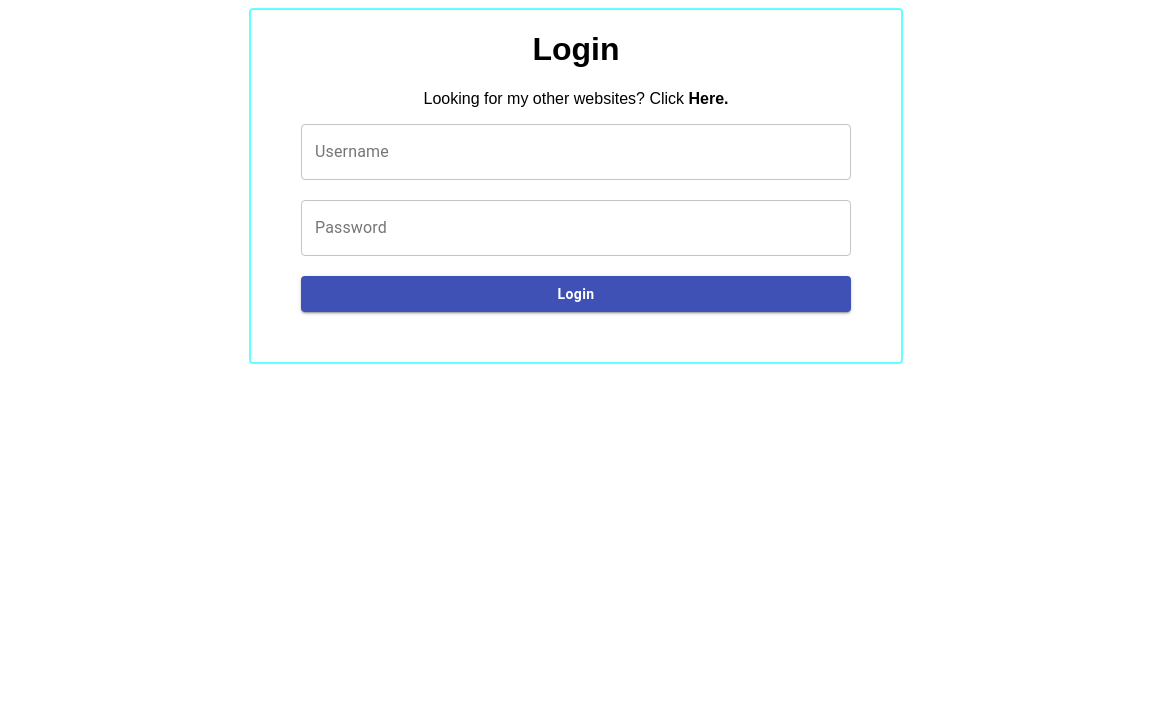
Test: logged-in-with-swimmer-role › lets you log out
The image size is (1152, 720).
Type "Swimmer" into the field labelled "Username" at (576,152), box [301,124,851,180]
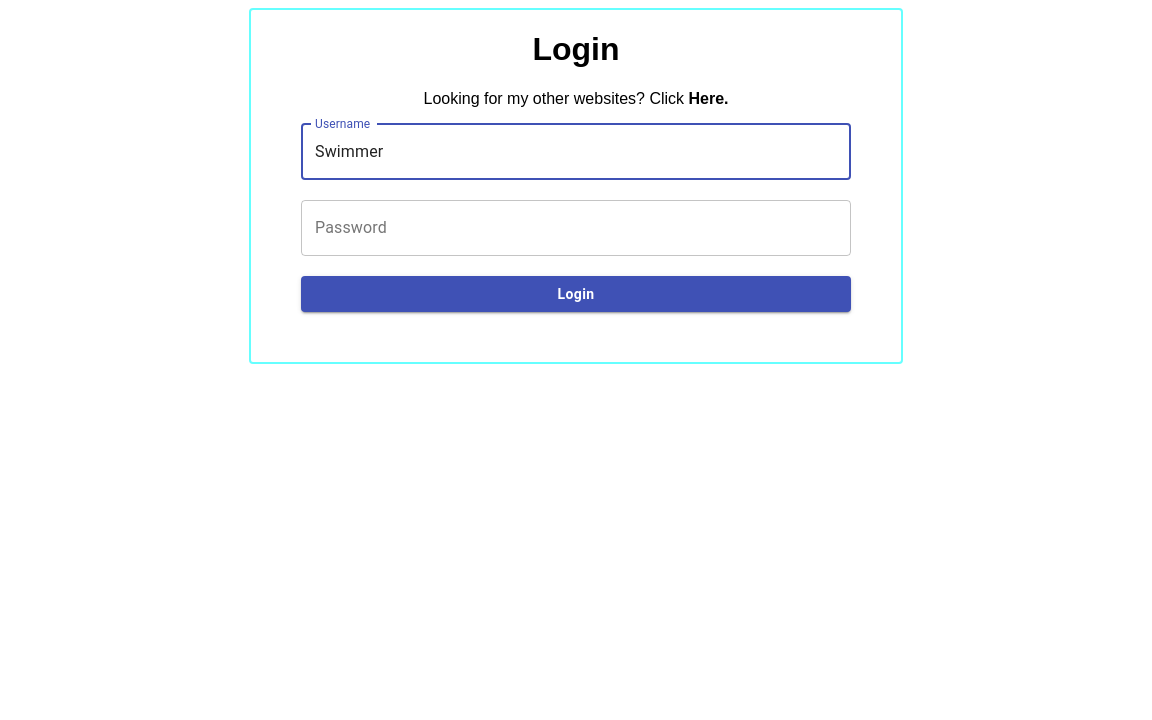
Type "1" into the field labelled "Password" at (576,228), box [301,200,851,256]
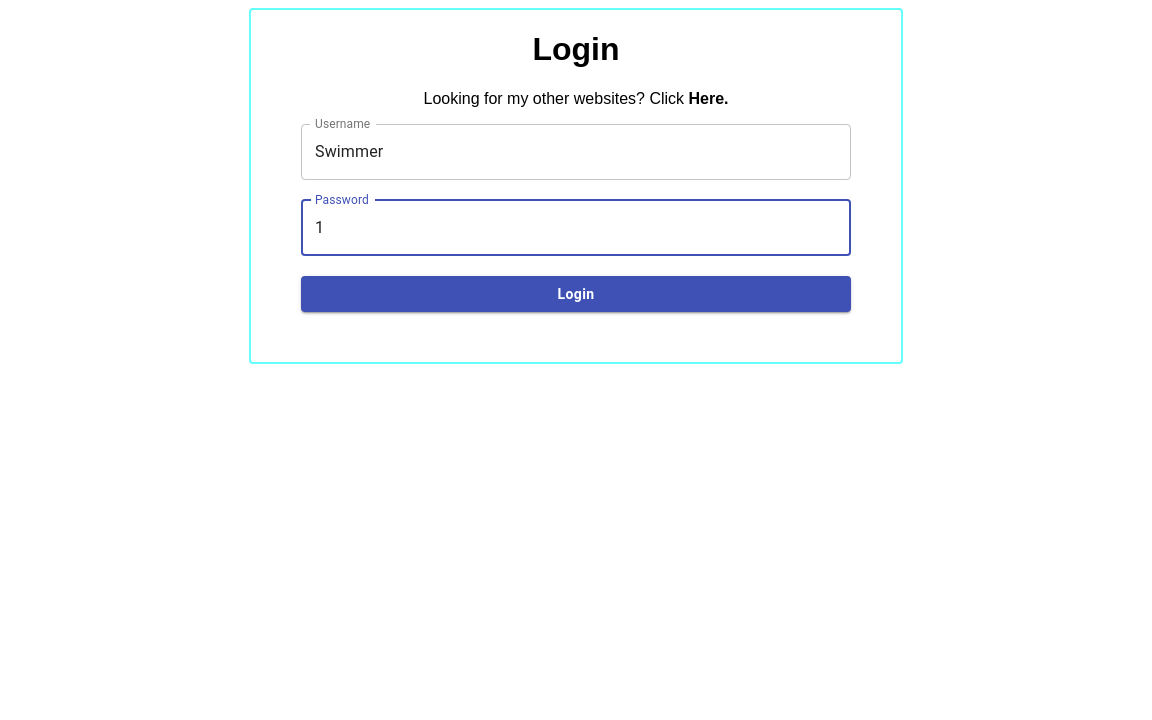
Click the button "Login" at (576,295), box [301,276,851,313]
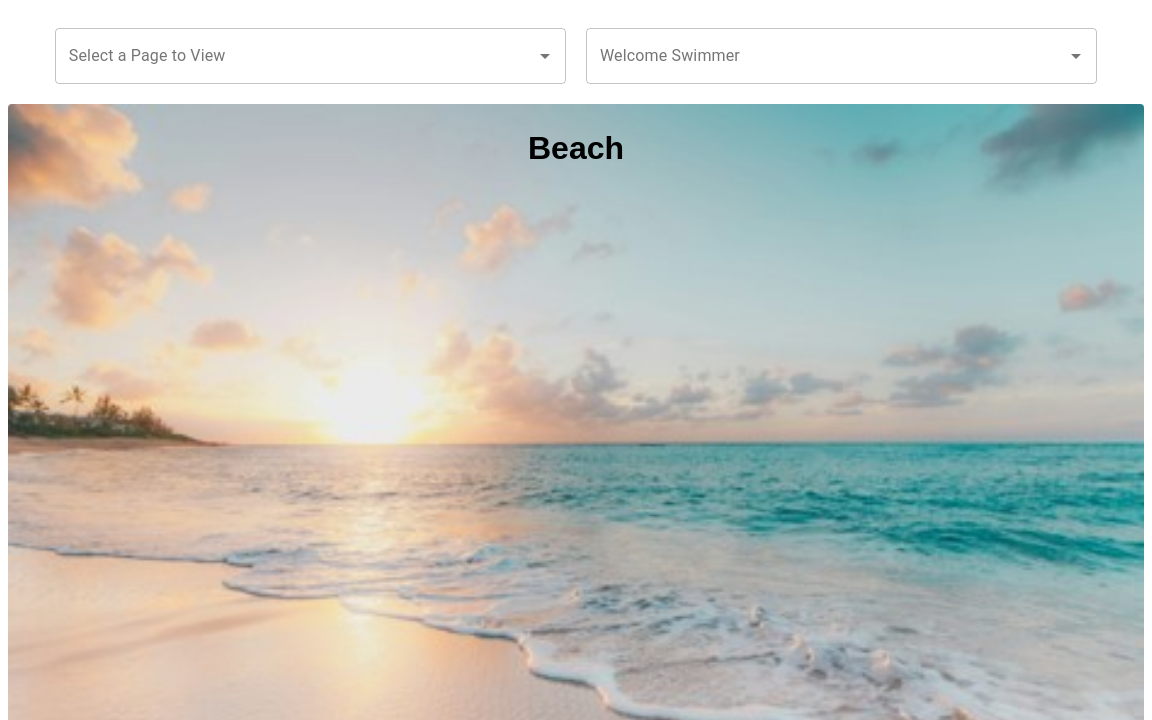
Click the button named "Open" in the row of "Welcome Swimmer" at (1076,56), box [1062,42,1090,70]
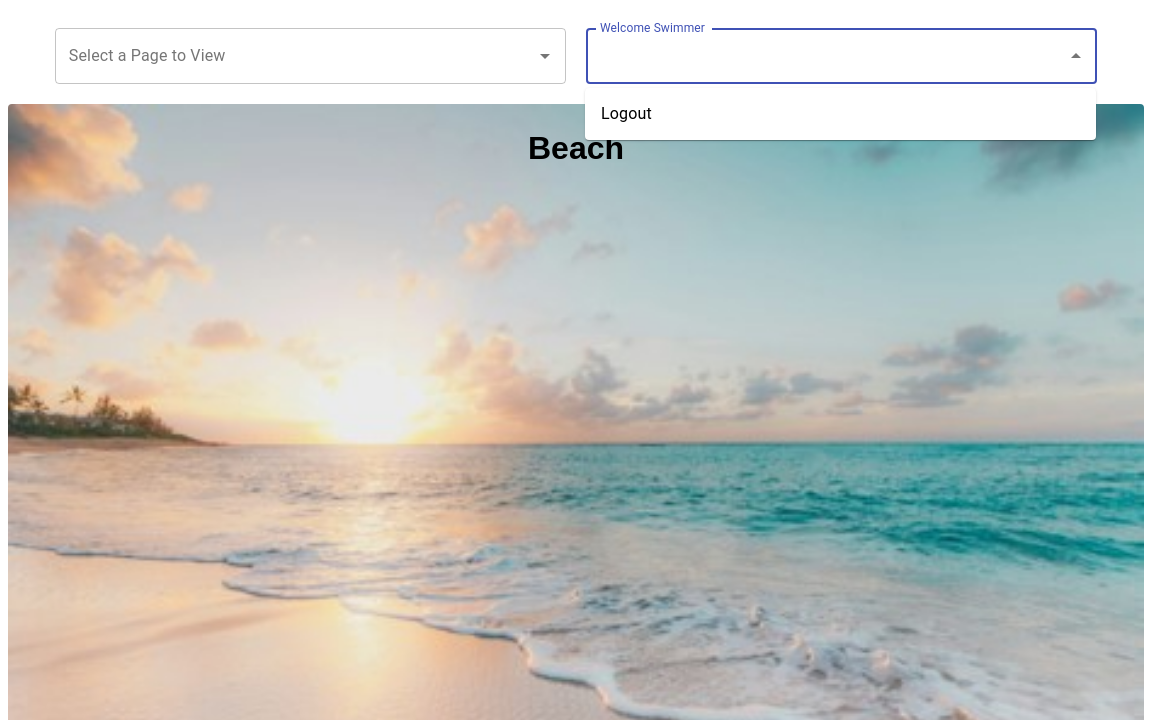
Click the option "Logout" at (627,114), box [601,104,652,123]
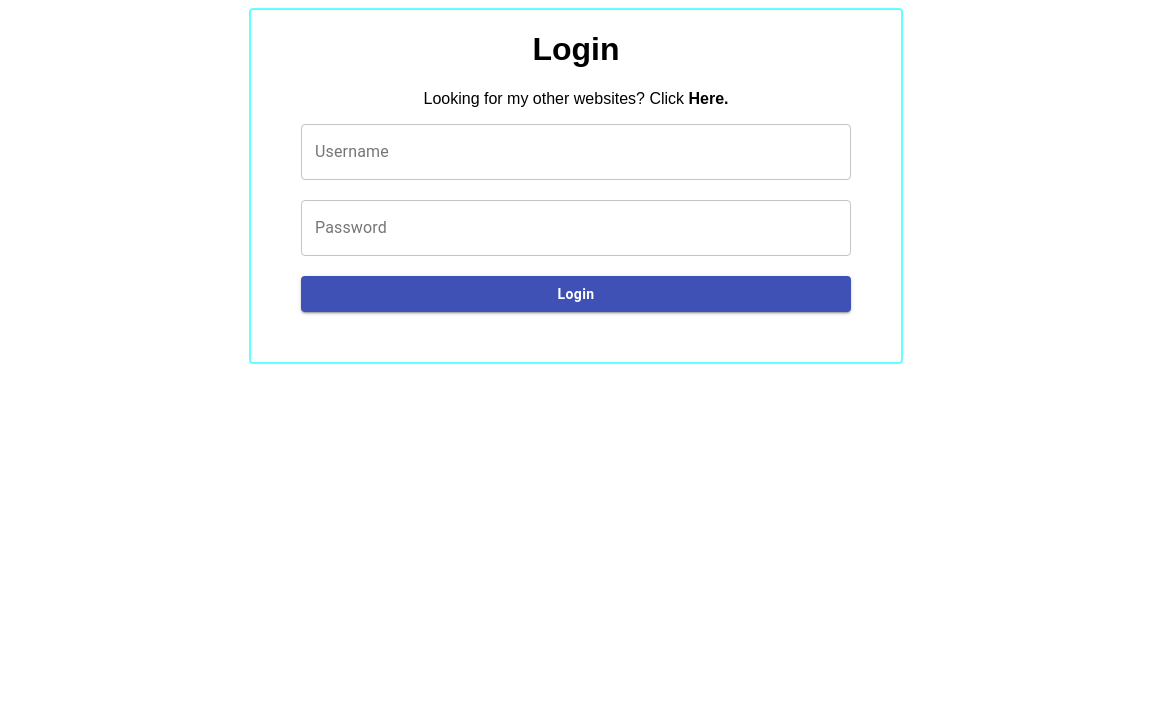
Expected: the heading "Login" is shown, [532,31,620,67]
